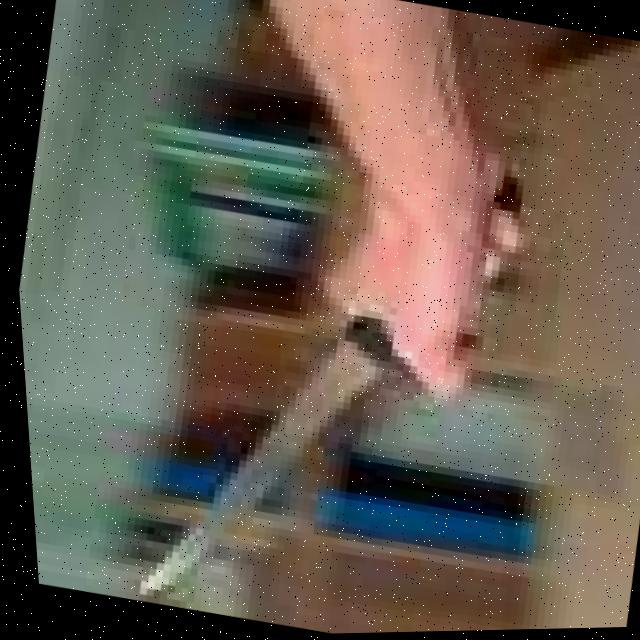knife: (109, 281, 412, 638)
